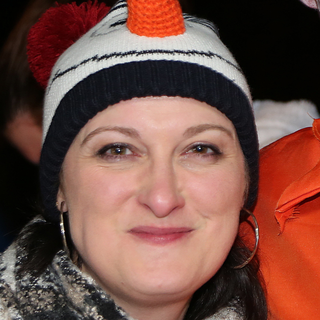eye: (84, 139, 145, 165), (175, 139, 224, 164)
